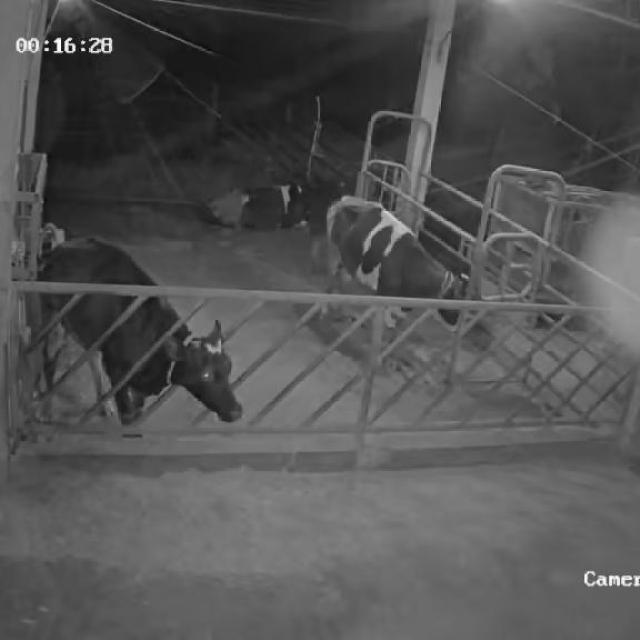lying down: (200, 173, 334, 235)
standing: (31, 229, 242, 437), (322, 195, 468, 354)
